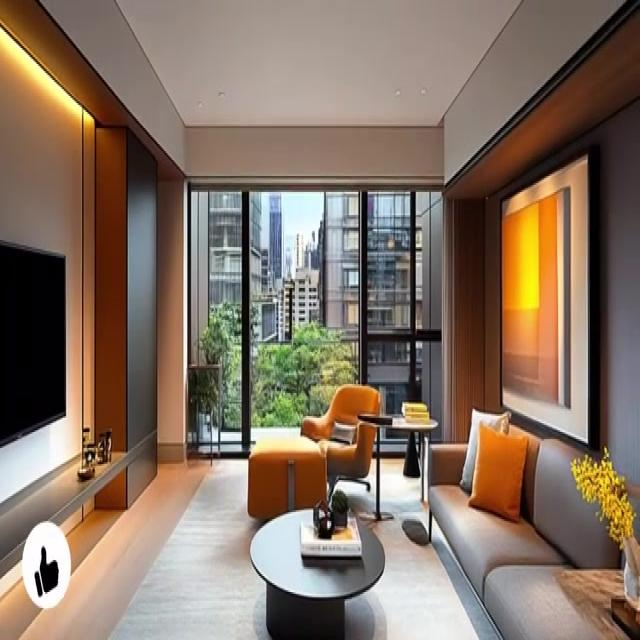obstacle: (426, 416, 638, 638), (249, 505, 385, 638), (357, 411, 438, 519)
